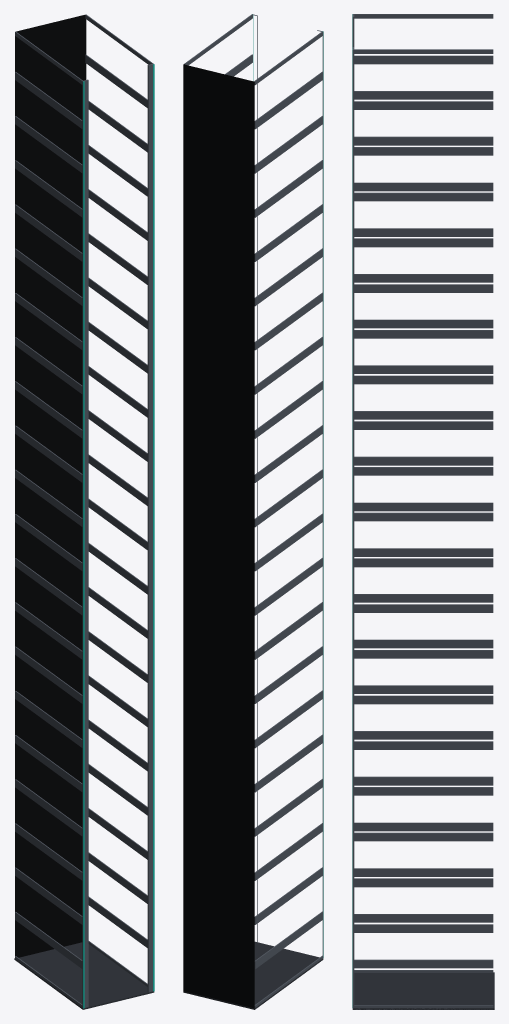
The model's file is CableManager_Vertical.glb.
3 renders of one model, left to right at view 1: azimuth 30°, elevation 25°; view 2: azimuth 150°, elevation 25°; view 3: azimuth 270°, elevation 25°, orthographic. The views are drawn at different scales.
Visible parts, largest first — view 1: CableManager_Vertical_Body; view 2: CableManager_Vertical_Body; view 3: CableManager_Vertical_Body.
Boxes of the visible parts, box(x1,y1,x2,y2) form: CableManager_Vertical_Body: box(14, 14, 154, 1009); CableManager_Vertical_Body: box(183, 14, 323, 1009); CableManager_Vertical_Body: box(352, 14, 494, 1009).
Size of the model in its own units: 0.15 by 1.87 by 0.2506.
